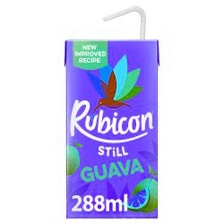carton: (56, 34, 166, 221)
drinking_straw: (101, 3, 156, 41)
